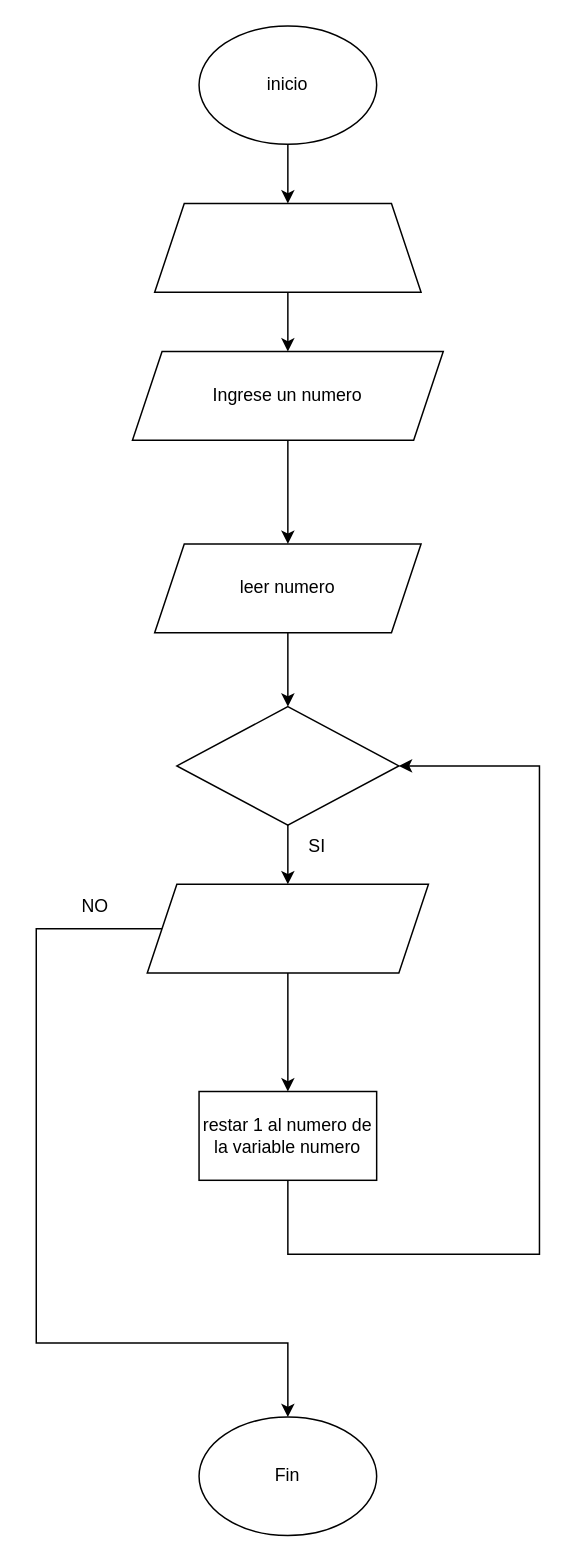
Image size: 577x1561. Some labels were removed from this diagram. Each missing label, with the box of its shape:
mostrar numero: (146, 883, 428, 973)
Variable: numero: (153, 202, 421, 292)
¿numero>=0?: (175, 705, 399, 825)
